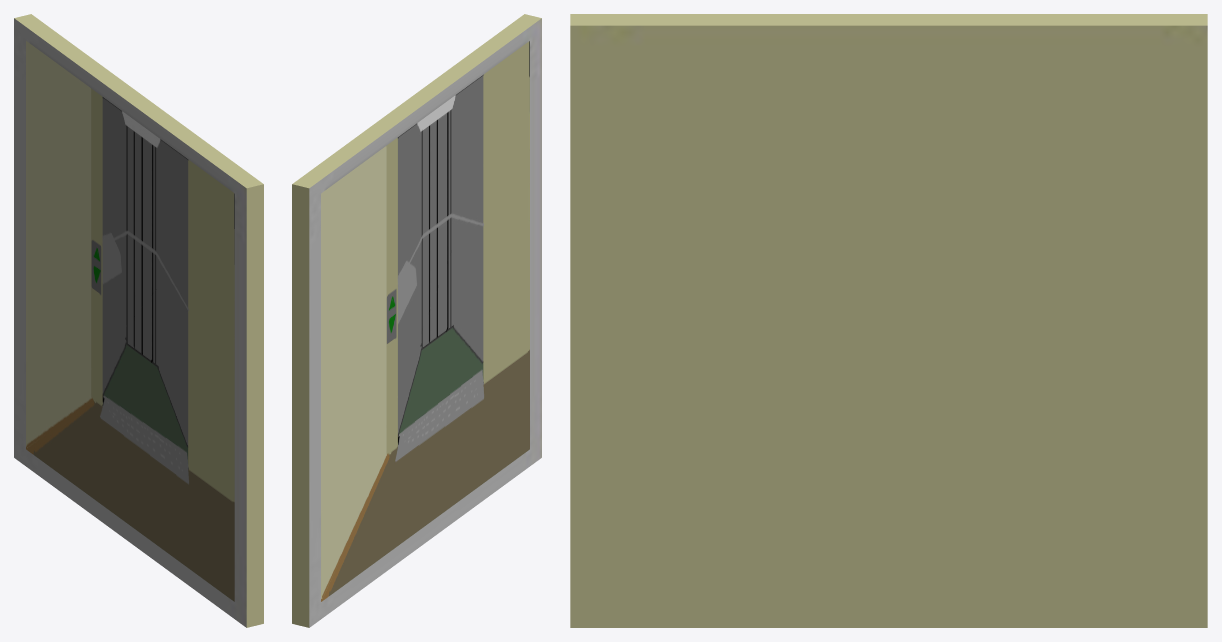
Rendered from Door_Tutorial_Backside.fbx.
The picture shows the model from 3 angles, left to right: view 1: azimuth 30°, elevation 25°; view 2: azimuth 150°, elevation 25°; view 3: azimuth 270°, elevation 25°; orthographic projection. The views are drawn at different scales.
Visible parts, largest first — view 1: Background; view 2: Background; view 3: Background.
Boxes of the visible parts, x1,y1,x2,y2 form: Background: (14, 14, 263, 627); Background: (292, 14, 541, 627); Background: (570, 14, 1207, 627).
Bounding box in the file's own units: 1.11 × 27.09 × 25.97.
1 material, 1 textured.
